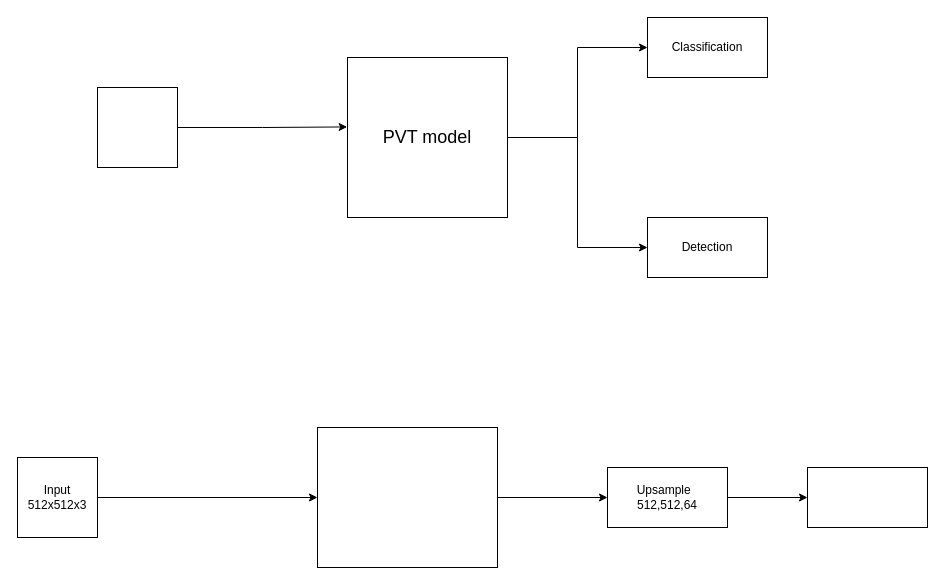
This 945x585 diagram has some shape labels left out. Each missing label, with the box of its shape:
Header 512,512,1: (806, 466, 928, 528)
Input 224,224,3: (96, 86, 178, 168)
SegFormer Backbone: (316, 426, 498, 568)
